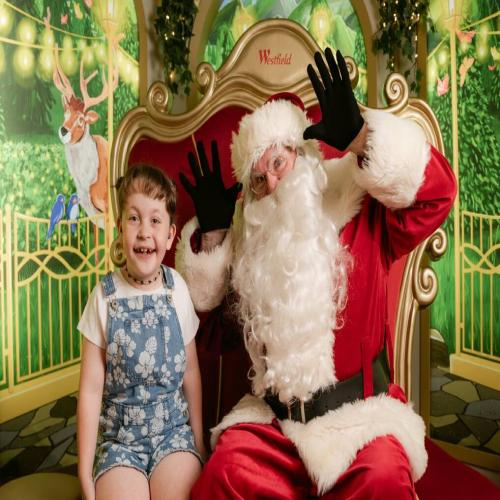Santa: (175, 47, 459, 500)
